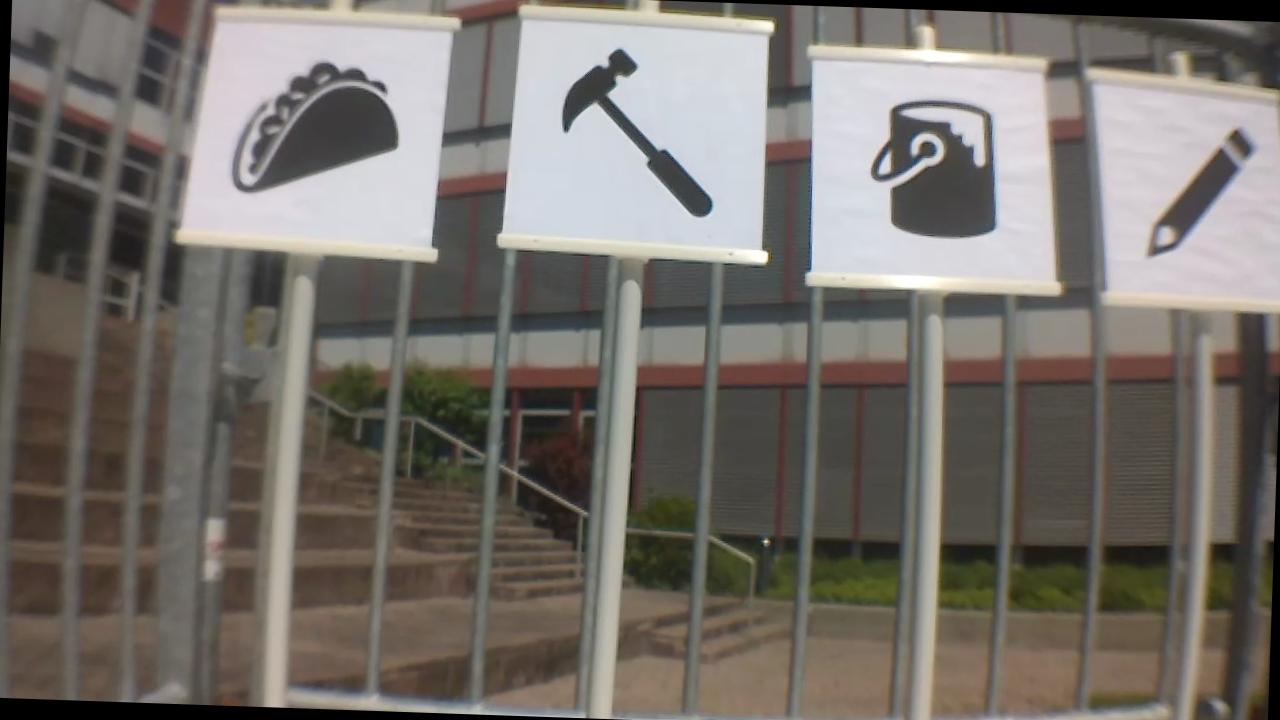bucket: (866, 94, 1004, 244)
hammer: (540, 36, 736, 227)
pencil: (1136, 120, 1268, 263)
taco: (229, 57, 408, 200)
